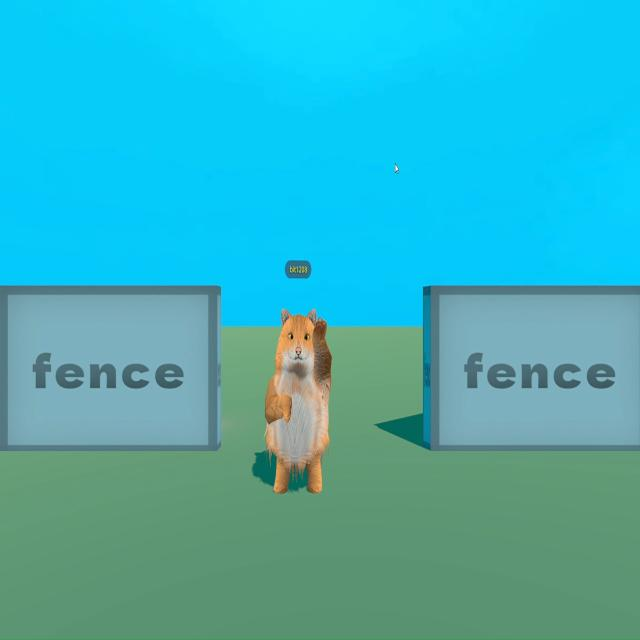human: (258, 298, 336, 506)
